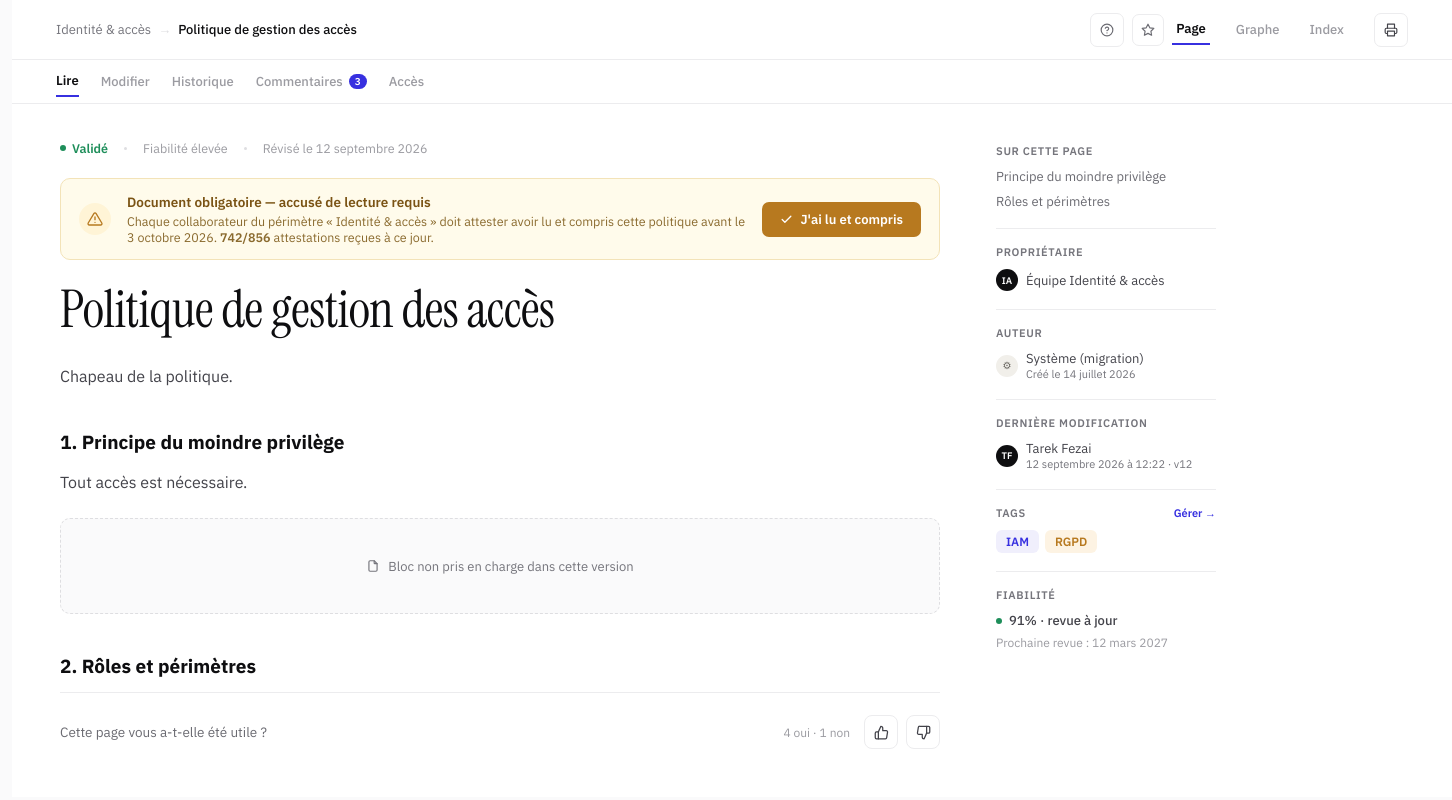
DocumentReadPage — attestation, feedback, export › affiche la bannière avec X/Y et le périmètre ; le bouton enregistre l’accusé
Expected: the element with test id "attestation-banner" shows "Identité & accès", [251,213,436,229]
Expected: the text "Document obligatoire — accusé de lecture requis" is shown, [127,193,431,211]
Step 1. Click the button "J'ai lu et compris" → (842, 219), box [762,202,921,236]
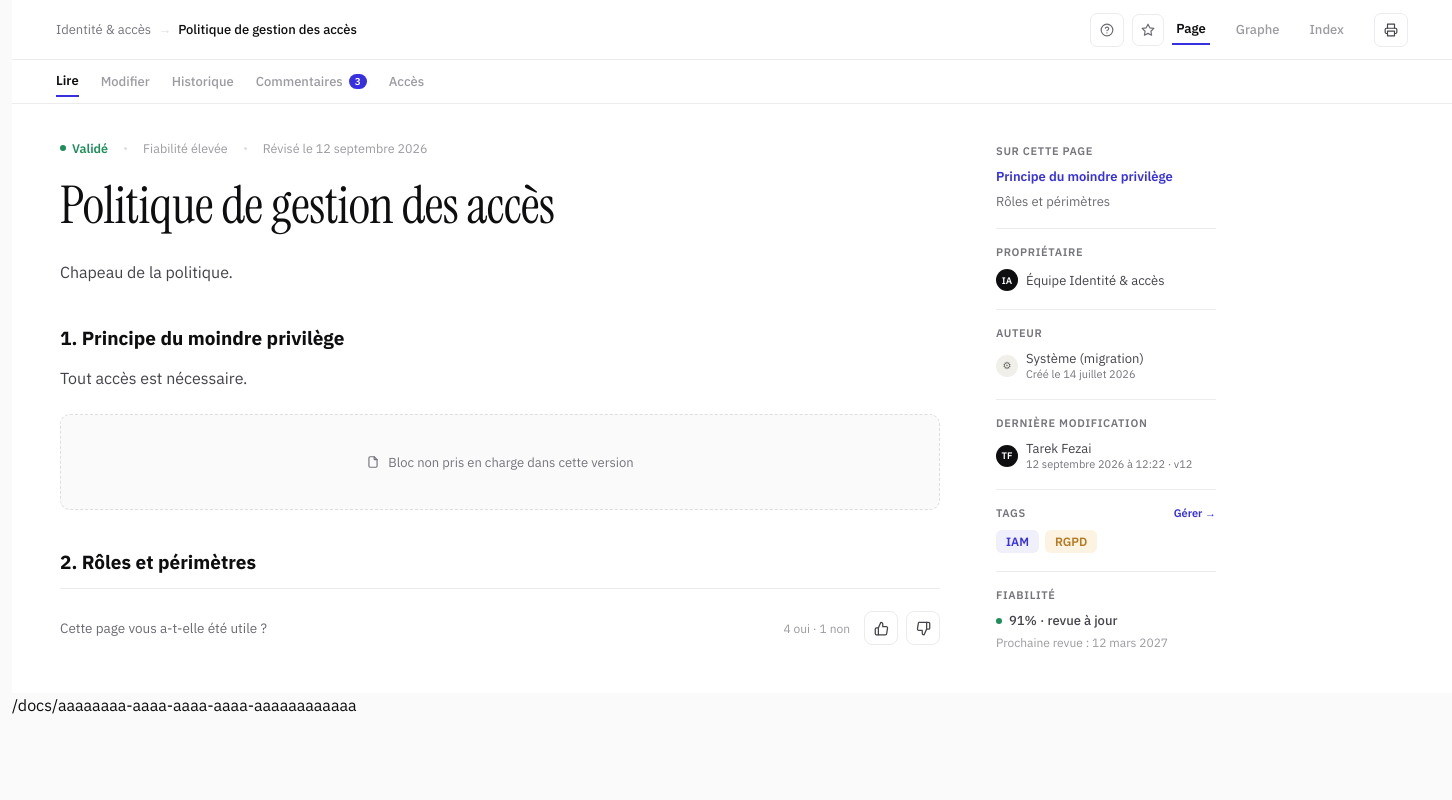
Expected: the element with test id "attestation-banner" is gone
